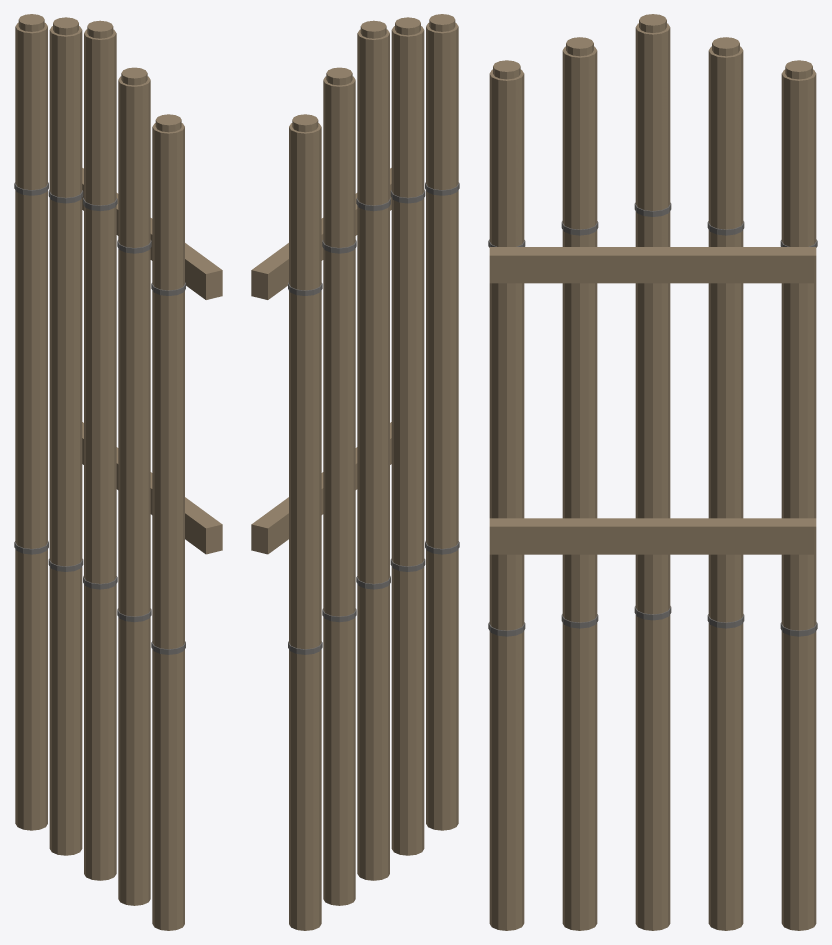
The model's file is dm_dockpilecluster.glb.
3 views of the same model, side by side, from view 1: azimuth 30°, elevation 25°; view 2: azimuth 150°, elevation 25°; view 3: azimuth 270°, elevation 25° (orthographic). The views are drawn at different scales.
Visible parts, largest first — view 1: dm_dockpilecluster; view 2: dm_dockpilecluster; view 3: dm_dockpilecluster.
Boxes of the visible parts, x1,y1,x2,y2 form: dm_dockpilecluster: (14,14,222,930); dm_dockpilecluster: (251,14,459,930); dm_dockpilecluster: (488,14,817,930).
Size of the model in its own units: 0.7302 by 9.76 by 3.22.
